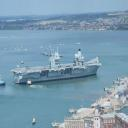Portanaves: (11, 48, 103, 87)
